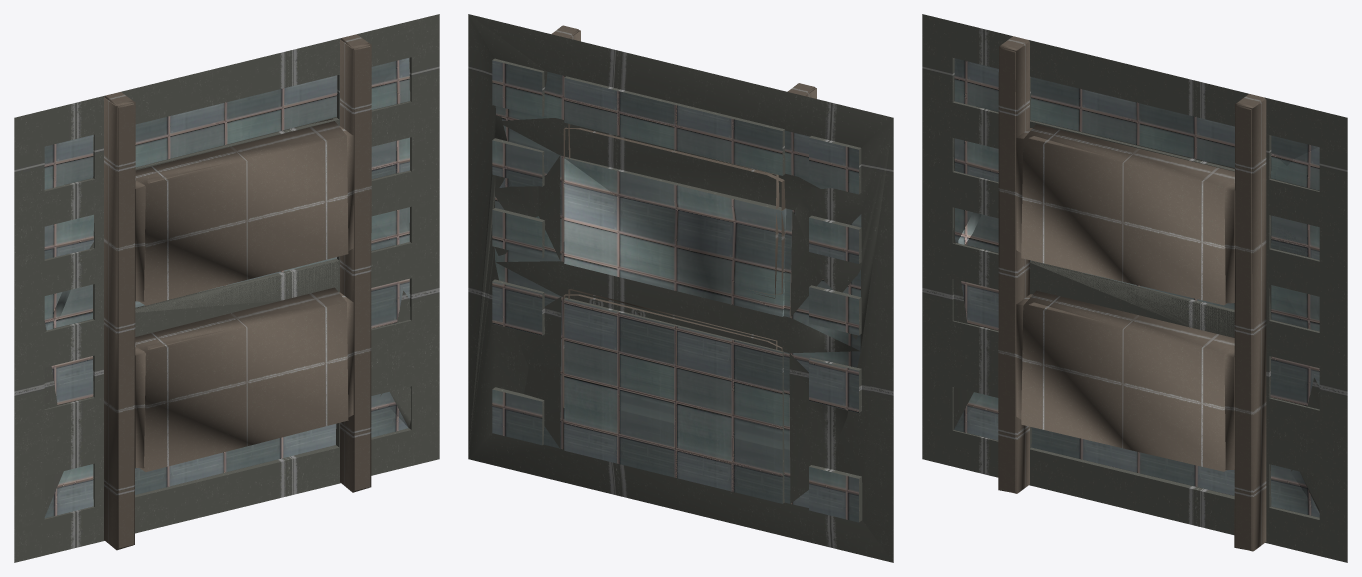
The model's file is sm_skyscraper_module18.glb.
3 views of the same model, side by side, from view 1: azimuth 30°, elevation 25°; view 2: azimuth 150°, elevation 25°; view 3: azimuth 330°, elevation 25° (orthographic).
Parts seen in each view (by area): view 1: sm_skyscraper_module18_00; view 2: sm_skyscraper_module18_00; view 3: sm_skyscraper_module18_00.
Part boxes in pixels (<box>): sm_skyscraper_module18_00: <box>14,14,439,562</box>; sm_skyscraper_module18_00: <box>468,14,893,562</box>; sm_skyscraper_module18_00: <box>922,14,1347,562</box>.
Size of the model in its own units: 12 by 12 by 1.
3 materials, 3 textured.
